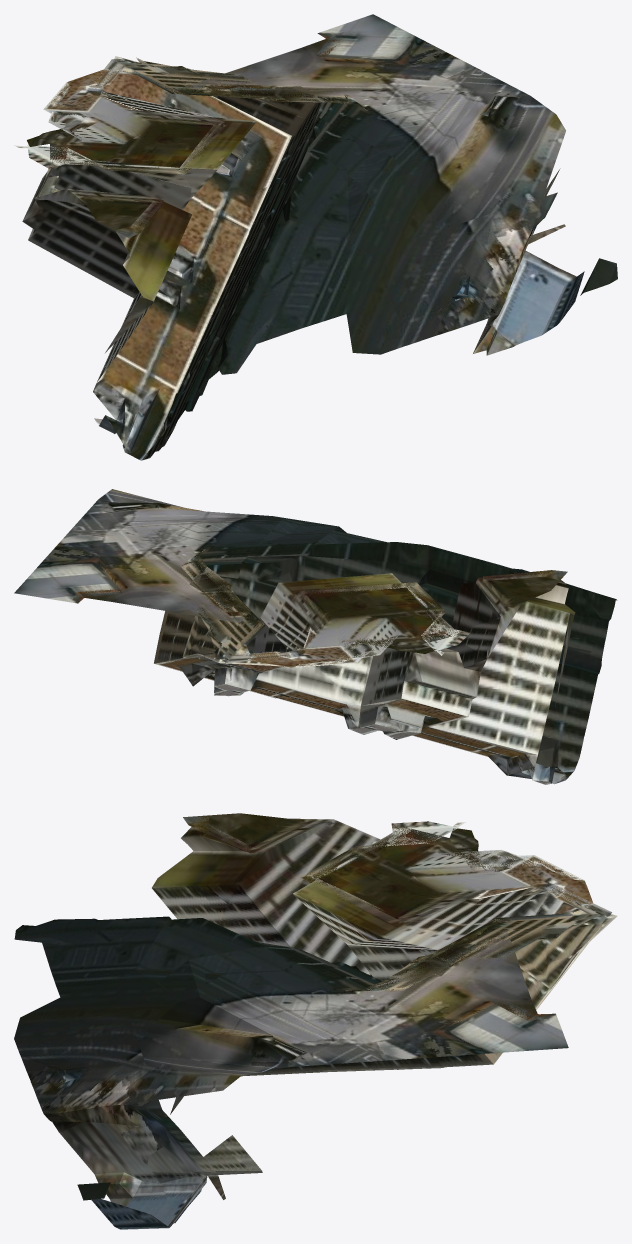
3 renders of one model, top to bottom at view 1: azimuth 30°, elevation 25°; view 2: azimuth 150°, elevation 25°; view 3: azimuth 270°, elevation 25°, orthographic. The views are drawn at different scales.
Visible parts, largest first — view 1: 18-138367-84716.0; view 2: 18-138367-84716.0; view 3: 18-138367-84716.0.
Boxes of the visible parts, box(x1,y1,x2,y2) form: 18-138367-84716.0: box(14, 14, 617, 460); 18-138367-84716.0: box(14, 489, 617, 784); 18-138367-84716.0: box(14, 813, 617, 1229).
Size of the model in its own units: 94.16 by 42.07 by 92.85.
Materials: 1 (1 with a texture image).
